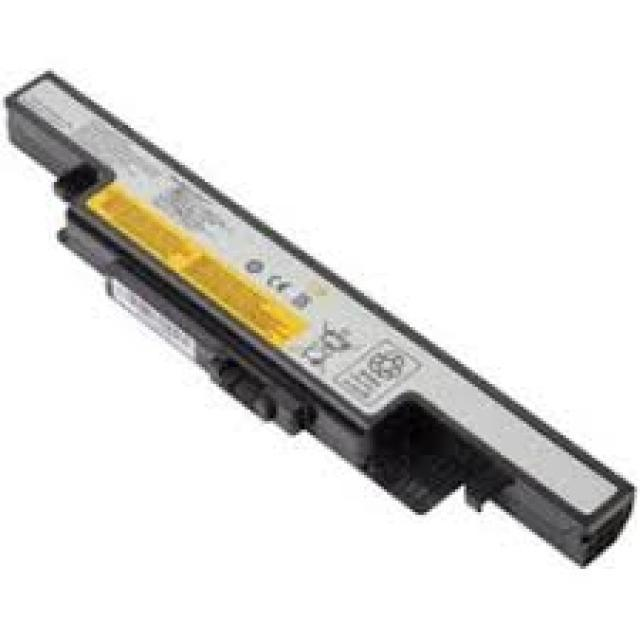battery: (2, 54, 635, 571)
